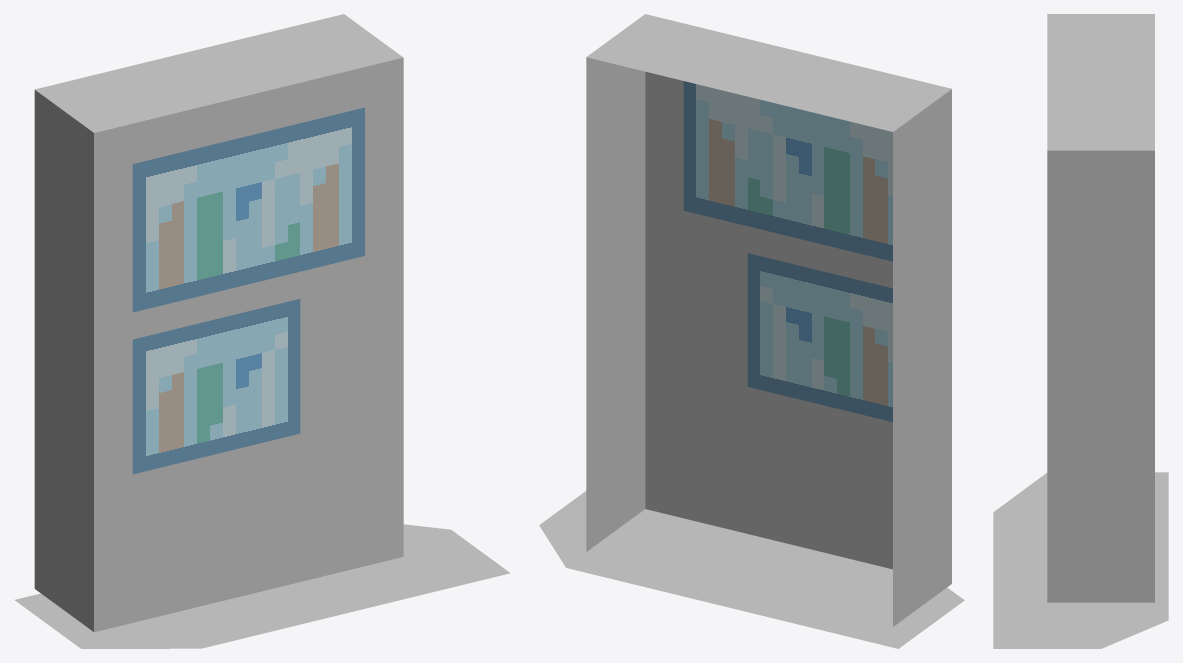
Rendered from Outdoor Vending Machine.obj.
The picture shows the model from 3 angles, left to right: view 1: azimuth 30°, elevation 25°; view 2: azimuth 150°, elevation 25°; view 3: azimuth 270°, elevation 25°; orthographic projection. The views are drawn at different scales.
Parts seen in each view (by area): view 1: polygon2, polygon0, polygon1; view 2: polygon2, polygon0, polygon1; view 3: polygon2, polygon1.
Part boxes in pixels (x1,y1,x2,y2): polygon2: [34, 14, 403, 632]; polygon0: [132, 107, 364, 474]; polygon1: [15, 524, 510, 648]; polygon2: [586, 14, 951, 626]; polygon0: [683, 81, 892, 421]; polygon1: [539, 491, 964, 648]; polygon2: [1047, 14, 1154, 602]; polygon1: [993, 472, 1168, 648].
Size of the model in its own units: 31 by 38 by 13.
